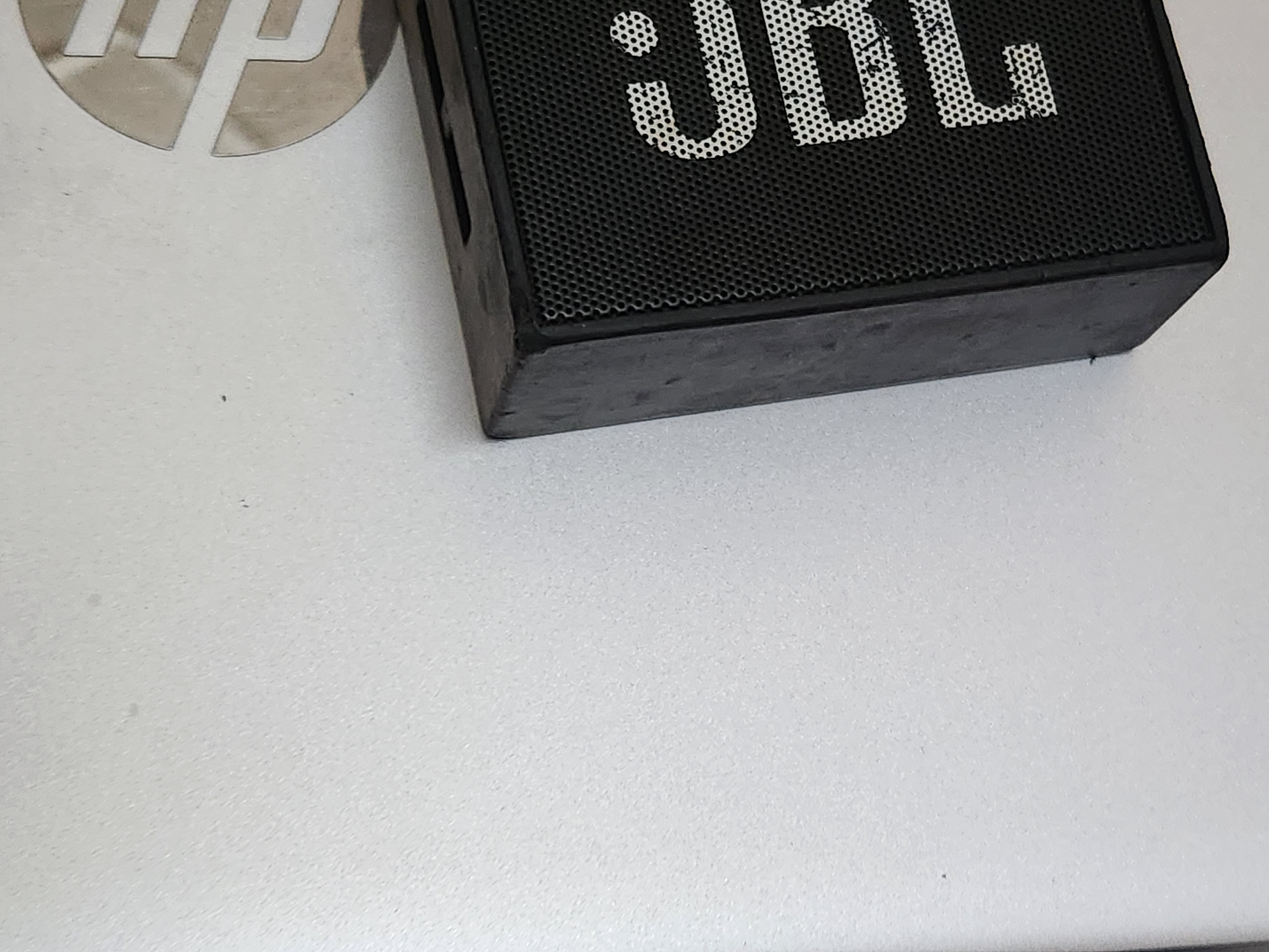speaker: (387, 0, 1232, 447)
